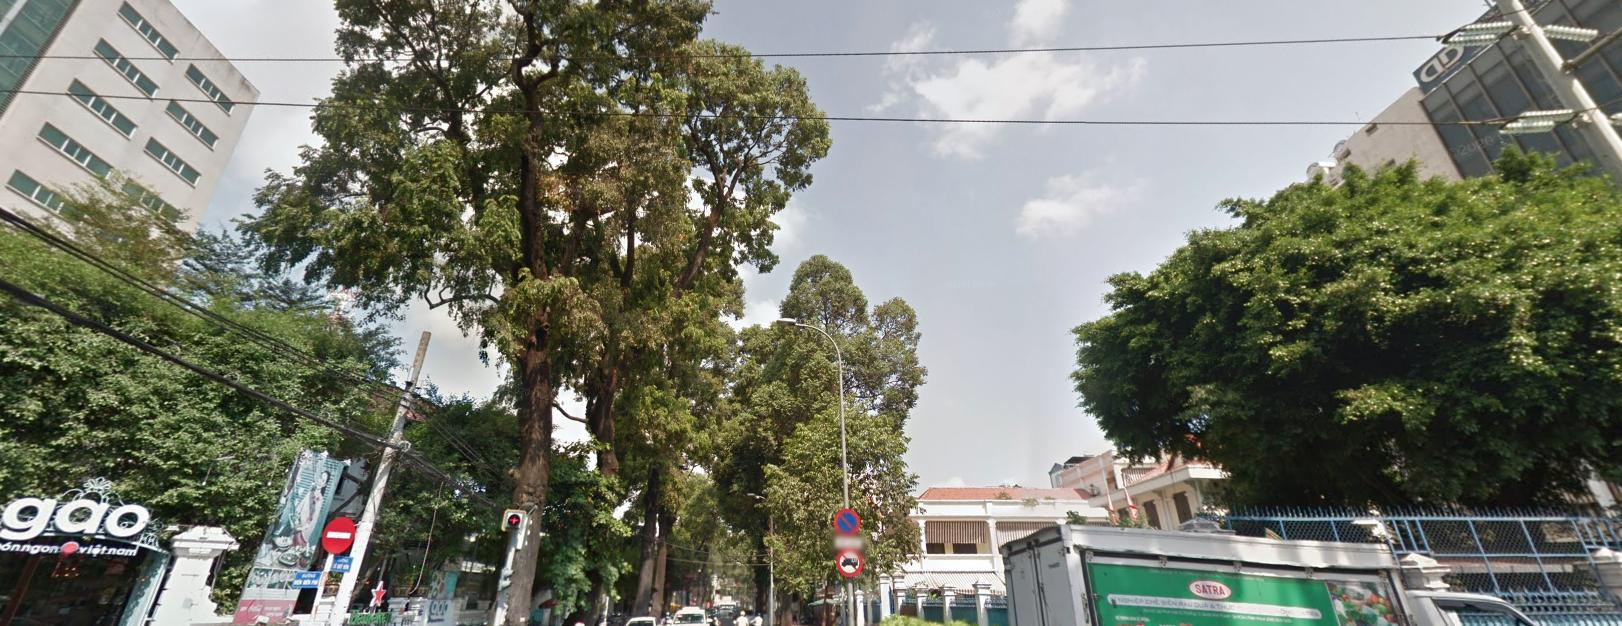Cam con lai: (836, 546, 862, 575)
Cam dung va do: (833, 508, 859, 536)
Cam nguoc chieu: (322, 515, 355, 552)
